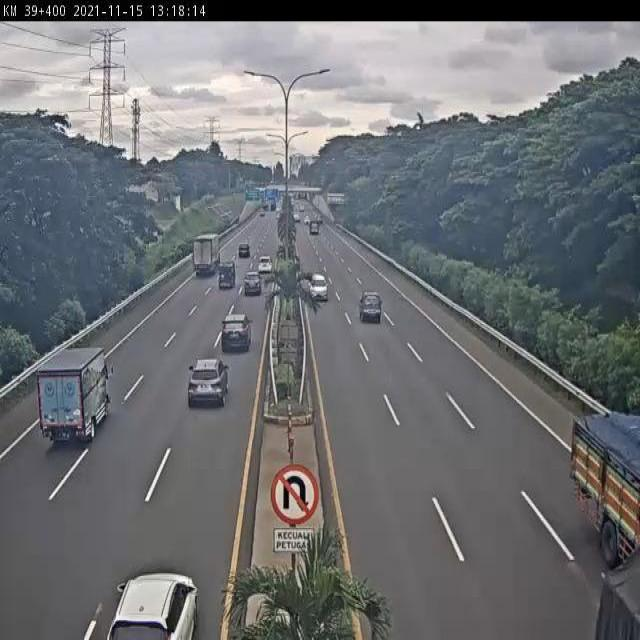car: (185, 357, 230, 411), (219, 314, 252, 354), (359, 291, 385, 321), (308, 272, 331, 303)
truck-l-: (189, 231, 223, 276)
truck-s-: (36, 346, 109, 446), (216, 260, 237, 292)
